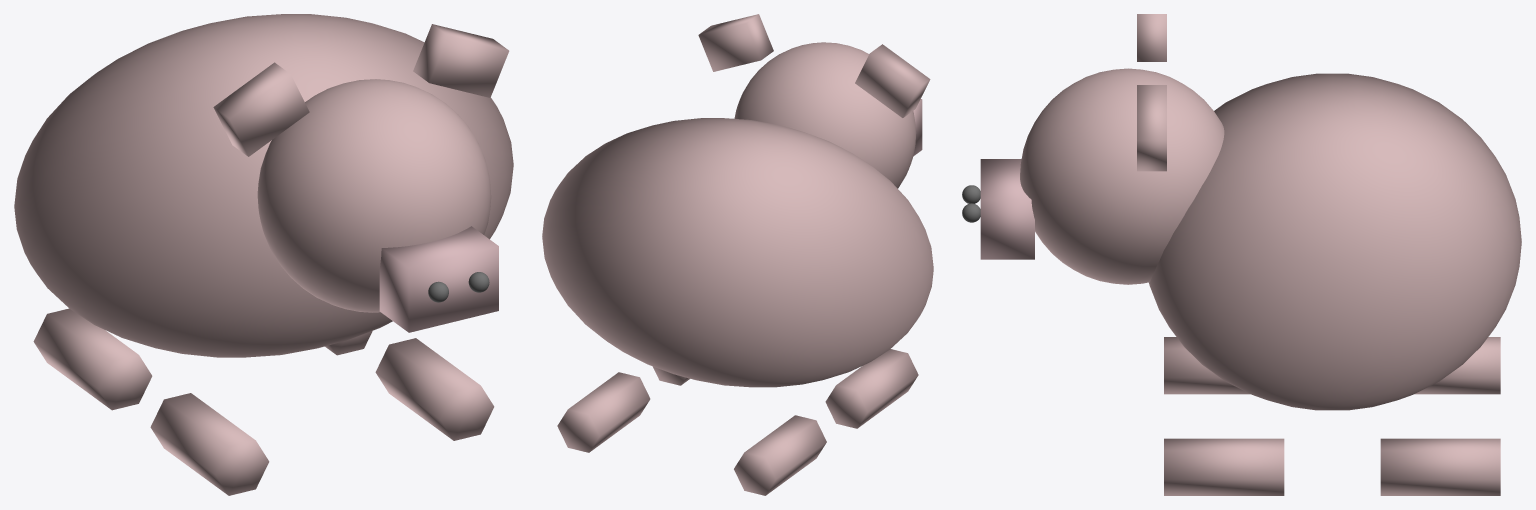
File: lifecycle_pig_piglet.glb
3 views of the same model, side by side, from view 1: azimuth 30°, elevation 25°; view 2: azimuth 150°, elevation 25°; view 3: azimuth 270°, elevation 25° (orthographic). The views are drawn at different scales.
Visible parts, largest first — view 1: body, head, snout, leg1_1, leg-1_1, leg-1_-1, ear1, ear-1; view 2: body, head, leg1_-1, leg-1_-1, leg-1_1, ear1, ear-1; view 3: body, head, leg1_-1, leg1_1, snout, ear-1, leg-1_-1, leg-1_1, ear1.
Part boxes in pixels (<box>): body: <box>14,14,513,357</box>; head: <box>257,79,491,312</box>; snout: <box>379,226,498,332</box>; leg1_1: <box>375,338,494,440</box>; leg-1_1: <box>150,393,269,495</box>; leg-1_-1: <box>33,308,152,410</box>; ear1: <box>213,62,309,156</box>; ear-1: <box>413,24,509,97</box>; body: <box>542,118,933,387</box>; head: <box>734,42,916,188</box>; leg1_-1: <box>557,372,650,452</box>; leg-1_-1: <box>734,415,826,495</box>; leg-1_1: <box>825,349,918,428</box>; ear1: <box>855,44,930,117</box>; ear-1: <box>698,14,773,71</box>; body: <box>1149,73,1521,410</box>; head: <box>1020,68,1224,284</box>; leg1_-1: <box>1380,438,1500,495</box>; leg1_1: <box>1164,438,1284,495</box>; snout: <box>980,159,1034,259</box>; ear-1: <box>1137,85,1166,171</box>; leg-1_-1: <box>1414,337,1500,394</box>; leg-1_1: <box>1164,337,1250,394</box>; ear1: <box>1137,14,1166,61</box>.
Bounding box in the file's own units: 0.4455 × 0.3932 × 0.5121.
